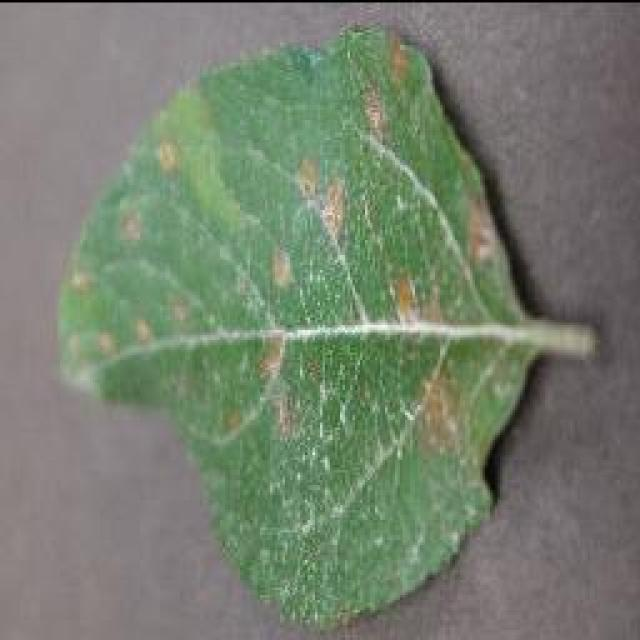apple rust disease: (52, 20, 598, 632)
